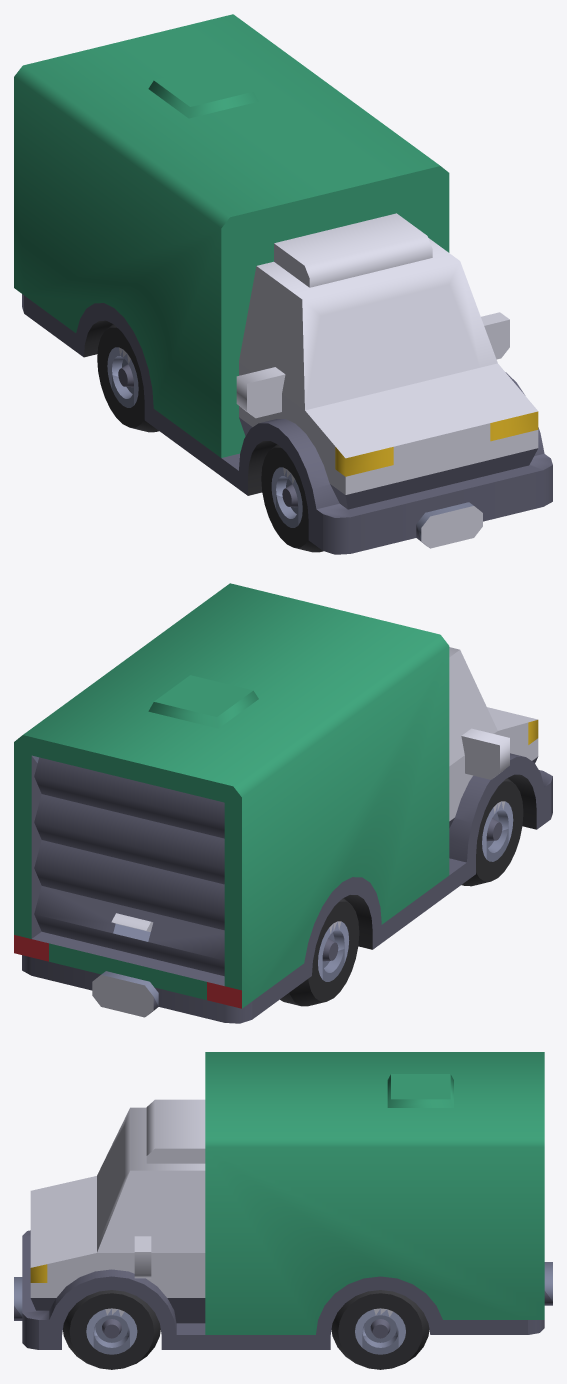
The model's file is delivery.glb.
3 renders of one model, top to bottom at view 1: azimuth 30°, elevation 25°; view 2: azimuth 150°, elevation 25°; view 3: azimuth 270°, elevation 25°, orthographic. The views are drawn at different scales.
Parts seen in each view (by area): view 1: body, wheel-front-right, wheel-back-right; view 2: body, door, wheel-back-right, wheel-front-right; view 3: body, wheel-back-left, wheel-front-left.
Part boxes in pixels (<box>): body: <box>14,14,552,554</box>; wheel-front-right: <box>261,444,323,552</box>; wheel-back-right: <box>97,324,158,432</box>; body: <box>14,583,552,1023</box>; door: <box>34,757,224,976</box>; wheel-back-right: <box>280,898,359,1006</box>; wheel-front-right: <box>461,778,523,886</box>; body: <box>14,1052,552,1349</box>; wheel-back-left: <box>331,1290,429,1369</box>; wheel-front-left: <box>63,1290,160,1369</box>.
Size of the model in its own units: 1.5 by 1.65 by 3.25.
